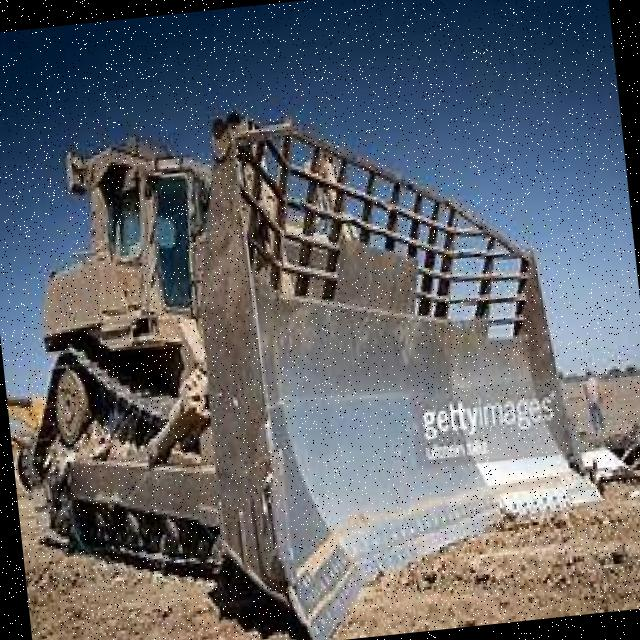Bulldozer: (0, 70, 620, 640)
